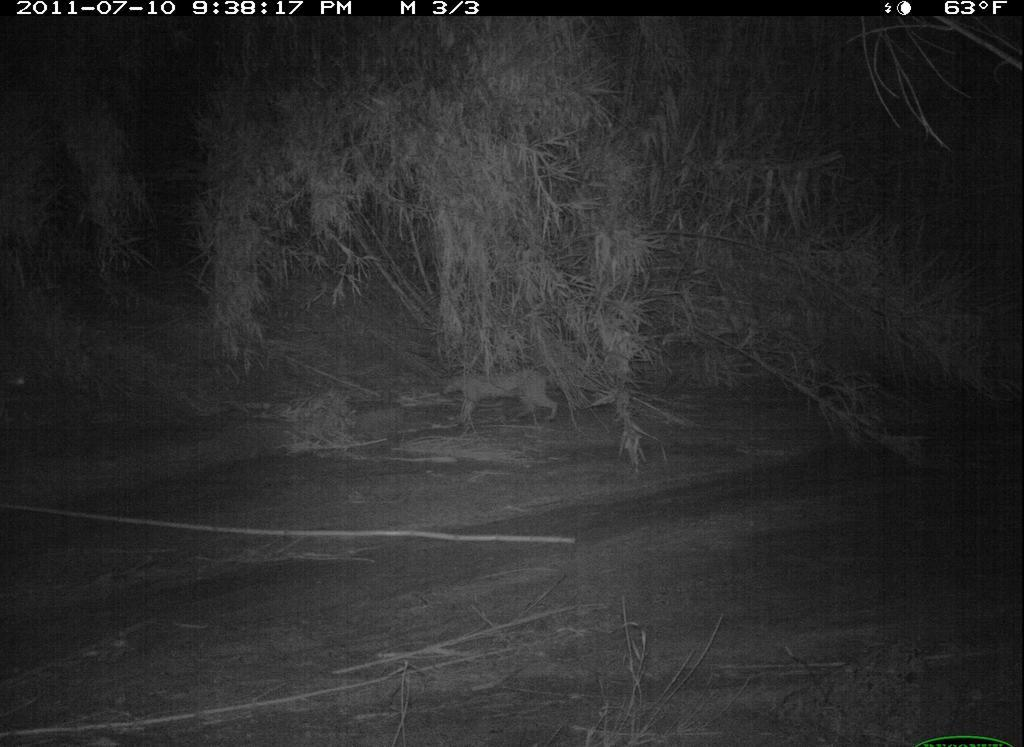bobcat: (434, 355, 574, 437)
